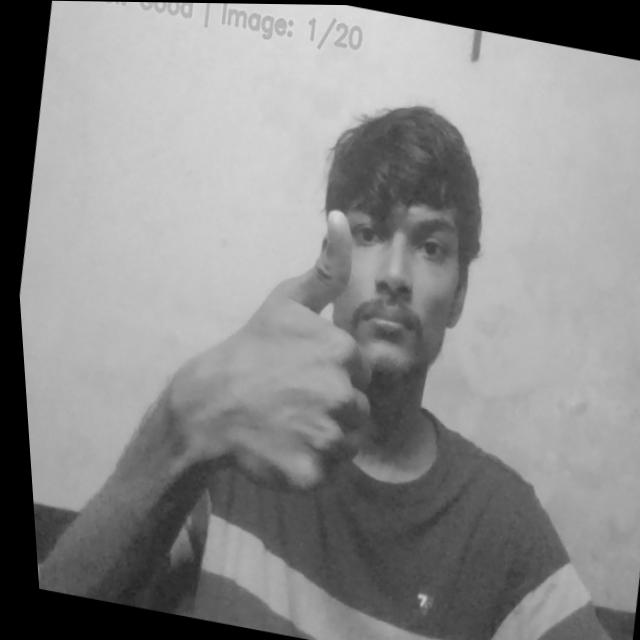Good: (164, 182, 401, 509)
